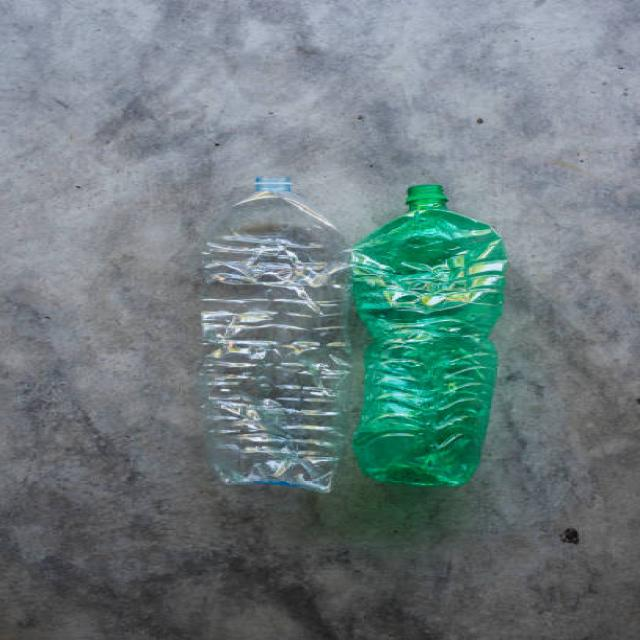plastic: (201, 176, 480, 486)
